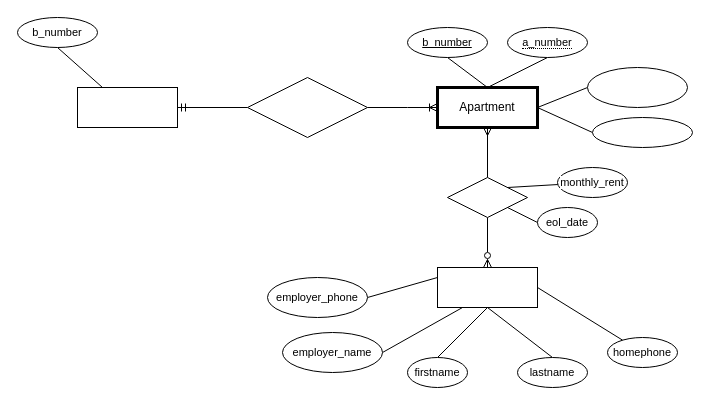
This 710x405 diagram has some shape labels left out. Each missing label, with the centre of its shape:
"asking_montly_rent" belongs at (x=637, y=87).
"Building" belongs at (x=127, y=107).
"consists of" belongs at (x=307, y=107).
"date_available" belongs at (x=642, y=132).
"rents" belongs at (x=487, y=197).
"Tenant" belongs at (x=487, y=287).
